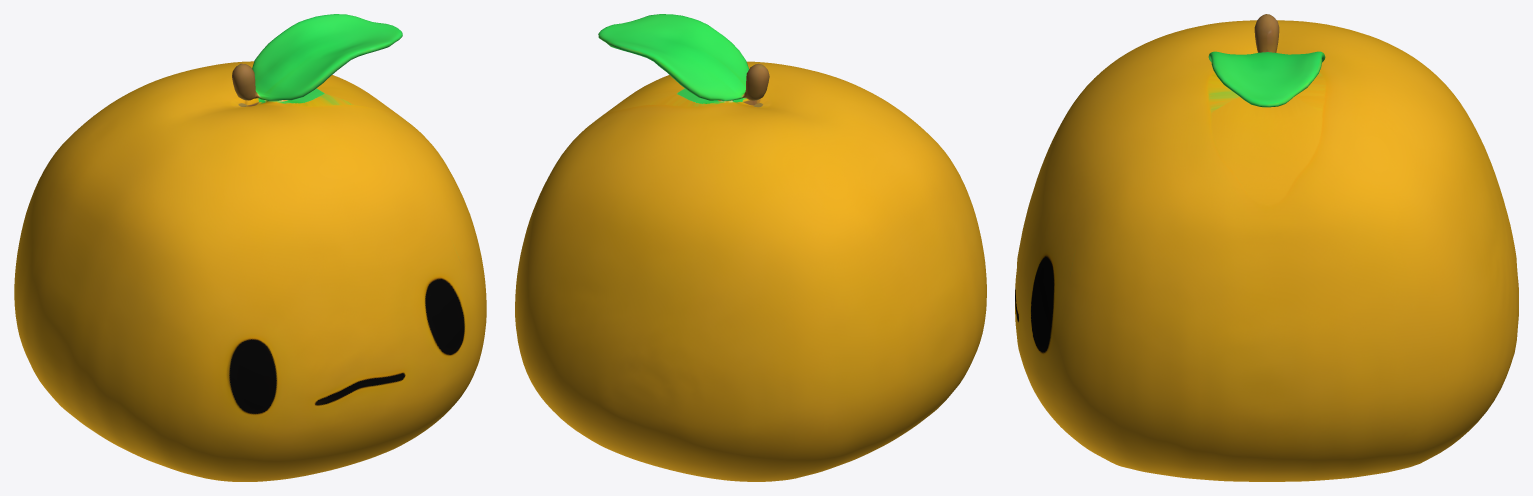
File: orange.glb
3 renders of one model, left to right at view 1: azimuth 30°, elevation 25°; view 2: azimuth 150°, elevation 25°; view 3: azimuth 270°, elevation 25°, orthographic. The views are drawn at different scales.
Parts seen in each view (by area): view 1: Object_2; view 2: Object_2; view 3: Object_2.
Part boxes in pixels (x1=…): Object_2: x1=14, y1=14, x2=486, y2=481; Object_2: x1=515, y1=14, x2=986, y2=481; Object_2: x1=1015, y1=14, x2=1518, y2=481.
Bounding box in the file's own units: 1.9 × 1.76 × 1.87.
Materials: 1 (1 with a texture image).
